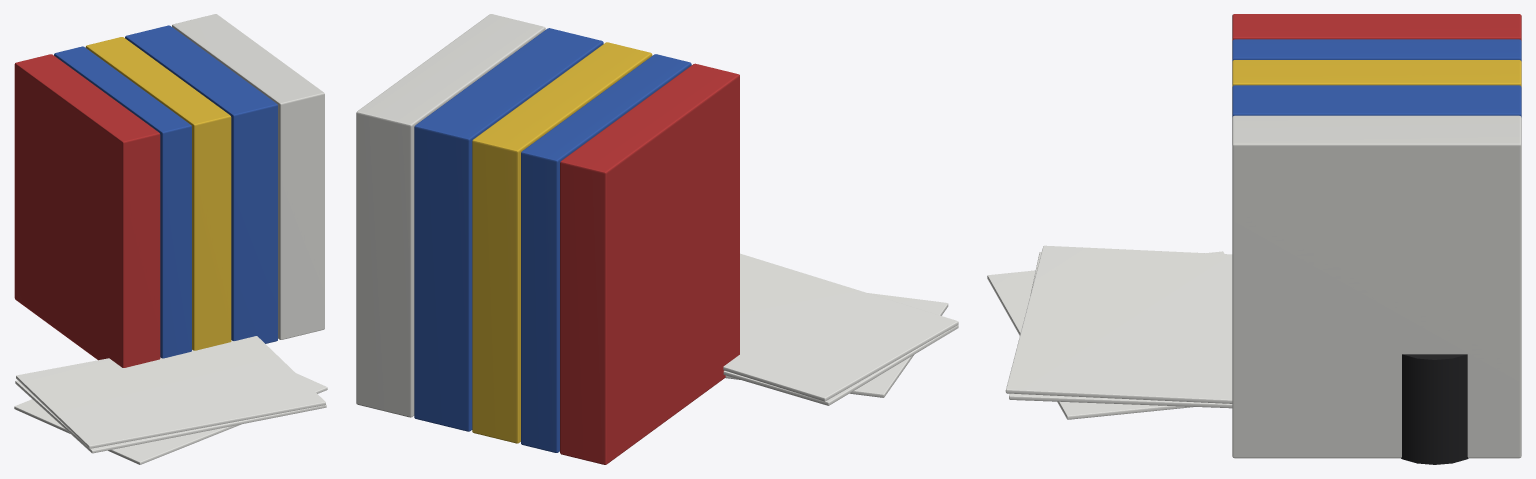
File: do_tren_ban_2.glb
3 views of the same model, side by side, from view 1: azimuth 30°, elevation 25°; view 2: azimuth 150°, elevation 25°; view 3: azimuth 270°, elevation 25° (orthographic). The views are drawn at different scales.
Visible parts, largest first — view 1: do_tren_ban_2; view 2: do_tren_ban_2; view 3: do_tren_ban_2.
Boxes of the visible parts, x1,y1,x2,y2 form: do_tren_ban_2: (14, 14, 327, 464); do_tren_ban_2: (356, 14, 958, 464); do_tren_ban_2: (987, 14, 1521, 464).
Bounding box in the file's own units: 0.4286 × 0.3 × 0.4615.
